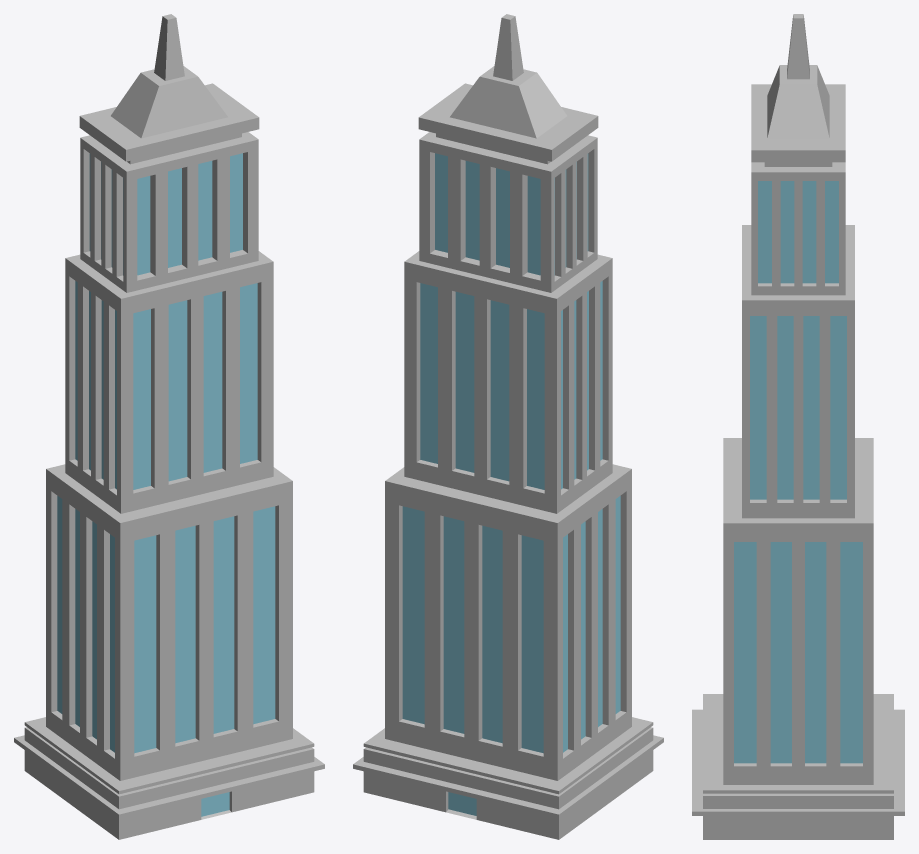
Rendered from SkyScraper 4.fbx.
3 views of the same model, side by side, from view 1: azimuth 30°, elevation 25°; view 2: azimuth 150°, elevation 25°; view 3: azimuth 270°, elevation 25° (orthographic).
Parts seen in each view (by area): view 1: pCube41; view 2: pCube41; view 3: pCube41.
Part boxes in pixels (x1,y1,x2,y2): pCube41: (14, 14, 324, 839); pCube41: (353, 14, 663, 839); pCube41: (692, 14, 904, 839).
Size of the model in its own units: 12.45 by 44.17 by 10.98.
